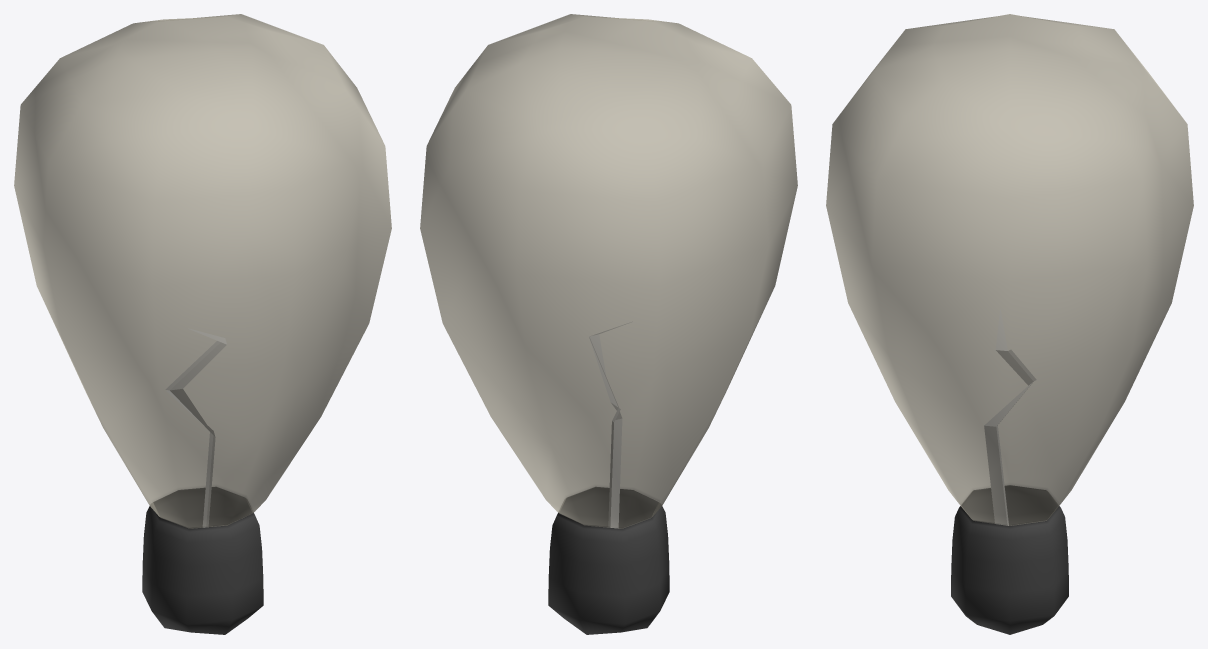
The model's file is lightbulb.fbx.
The picture shows the model from 3 angles, left to right: view 1: azimuth 30°, elevation 25°; view 2: azimuth 150°, elevation 25°; view 3: azimuth 270°, elevation 25°; orthographic projection.
Parts seen in each view (by area): view 1: Cube, Plane; view 2: Cube, Plane; view 3: Cube, Plane.
Part boxes in pixels (x1,y1,x2,y2): Cube: [14, 14, 391, 634]; Plane: [166, 328, 226, 527]; Cube: [420, 14, 797, 634]; Plane: [589, 322, 631, 527]; Cube: [826, 14, 1193, 634]; Plane: [984, 309, 1036, 525].
Size of the model in its own units: 190 by 334 by 190.
